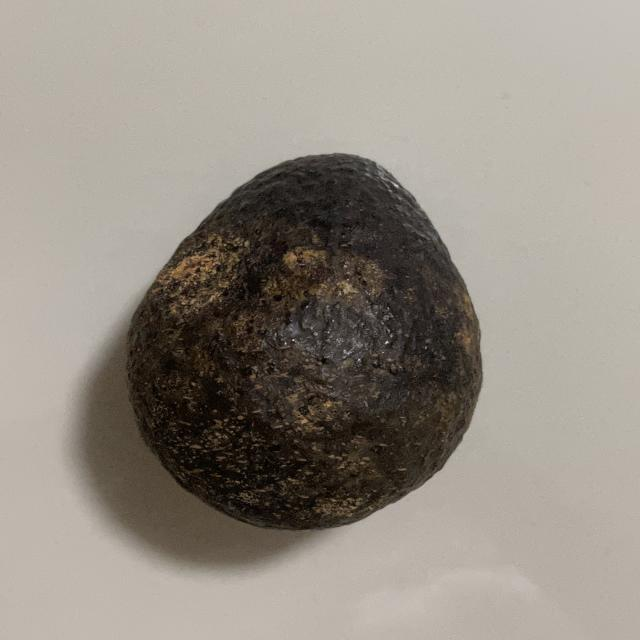Level4: (116, 142, 495, 536)
